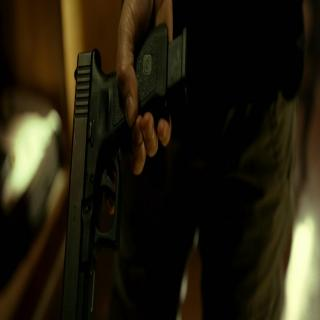gun: (48, 20, 197, 315)
